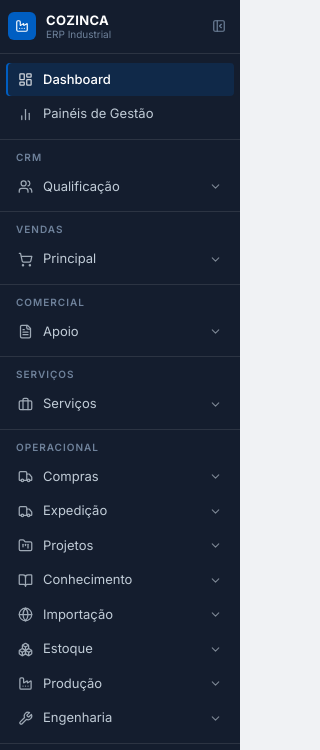
Sidebar Component › colapsa grupo ao clicar novamente
Click the button "Principal". click: (120,259)
box: [6,242,234,276]
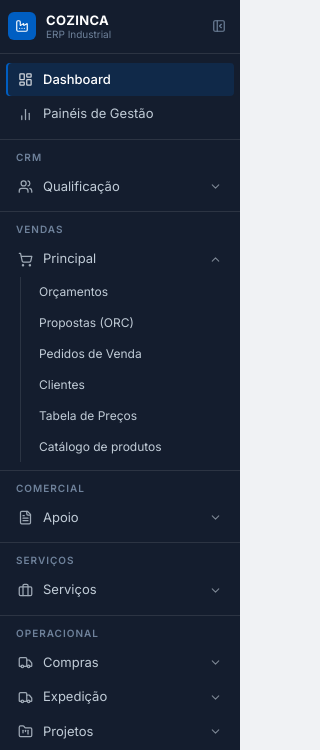
Expected: the text "Pedidos de Venda" is shown, [39,345,142,363]
Click the button "Principal". click: (120,259)
box: [6,242,234,276]
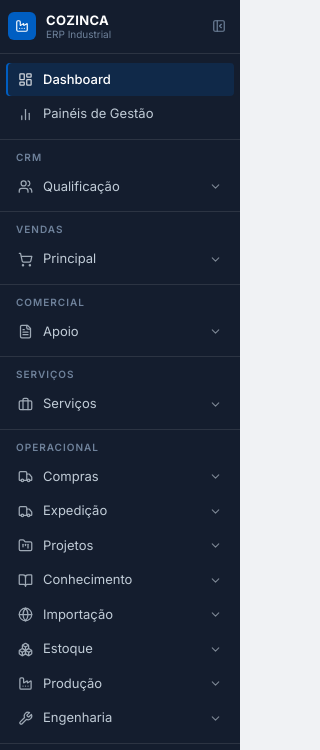
Expected: the link "Pedidos de Venda" is gone
